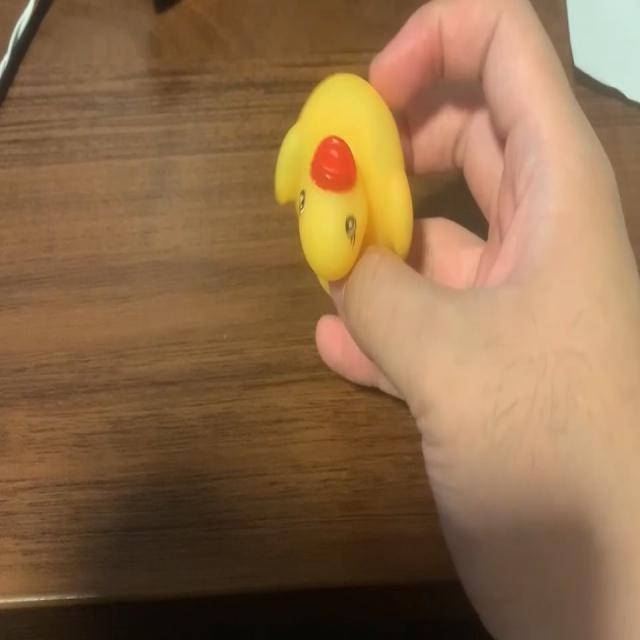rubber-duck: (274, 73, 411, 290)
